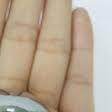ironball: (0, 87, 63, 111)
